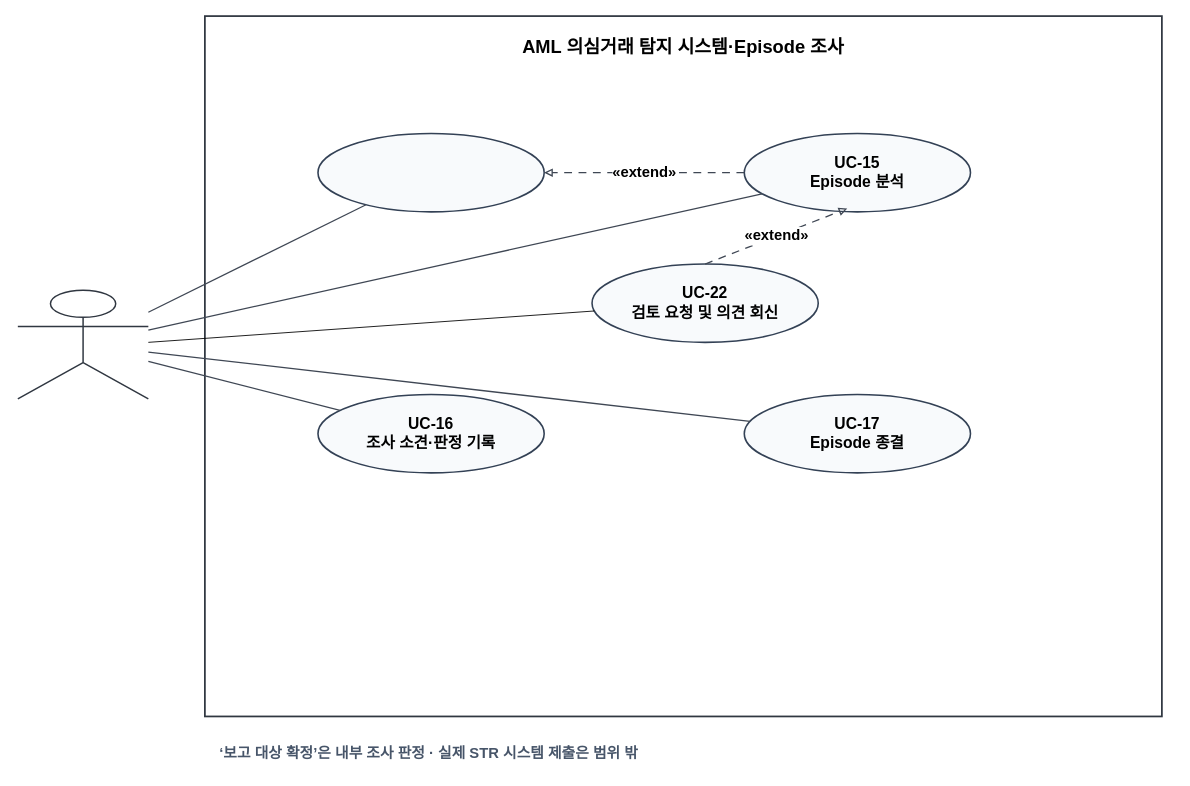
The diagram is 1190 pixels wide and 786 high, and some of its shapes have lost their labels. Each missing label, with the centre of its shape:
UC-14 Episode 조회: point 431,172
상위기관 AML 담당자: point 83,344
